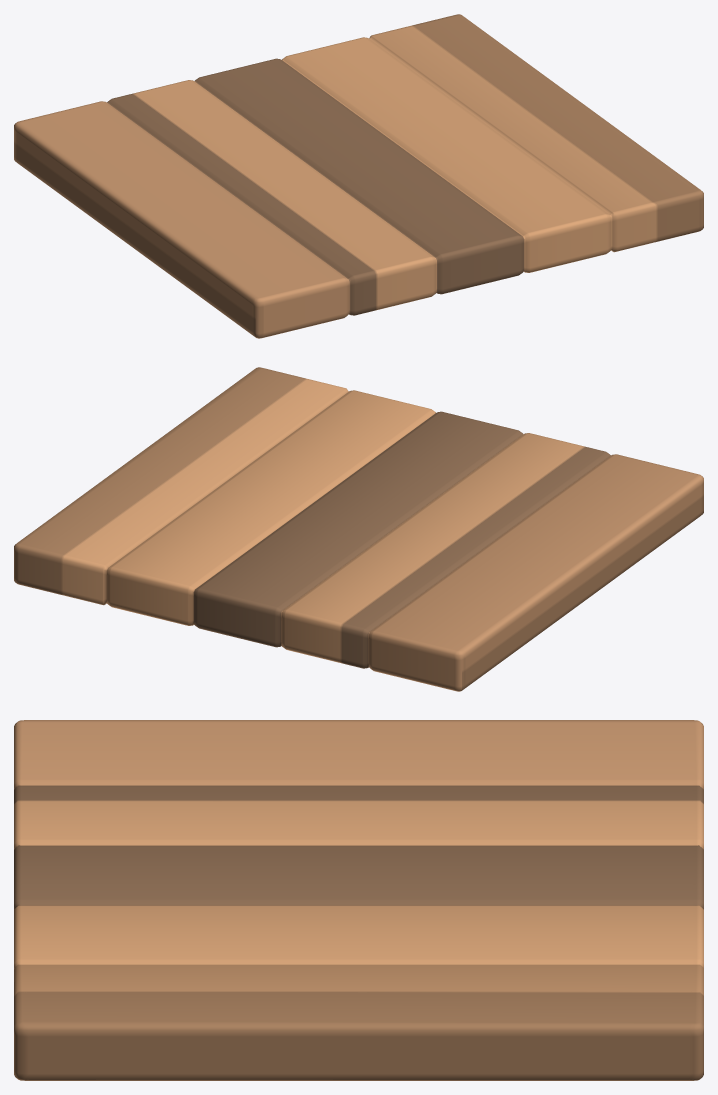
The model's file is HoopsBoxFloor.fbx.
3 renders of one model, top to bottom at view 1: azimuth 30°, elevation 25°; view 2: azimuth 150°, elevation 25°; view 3: azimuth 270°, elevation 25°, orthographic. The views are drawn at different scales.
Parts seen in each view (by area): view 1: ENV_S02_MovableBox_MO_1; view 2: ENV_S02_MovableBox_MO_1; view 3: ENV_S02_MovableBox_MO_1.
Part boxes in pixels (<box>): ENV_S02_MovableBox_MO_1: <box>14,14,703,338</box>; ENV_S02_MovableBox_MO_1: <box>14,367,703,691</box>; ENV_S02_MovableBox_MO_1: <box>14,720,703,1080</box>.
Bounding box in the file's own units: 12.5 × 1.05 × 11.82.
